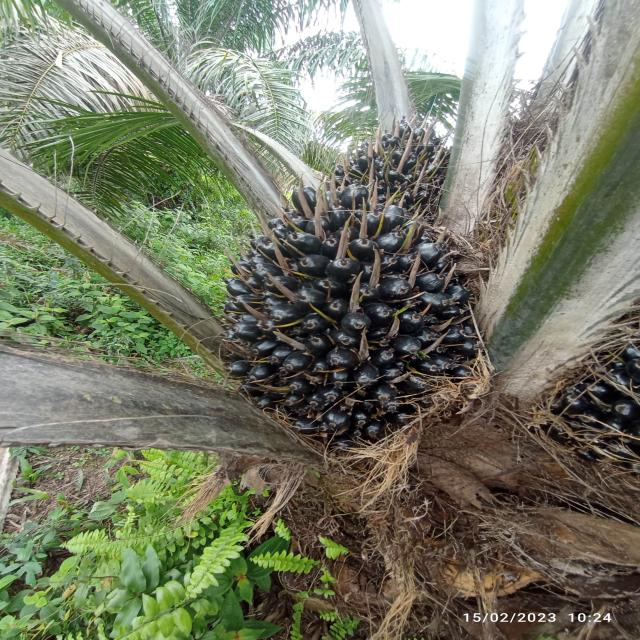fraksi 00: (186, 120, 502, 458)
